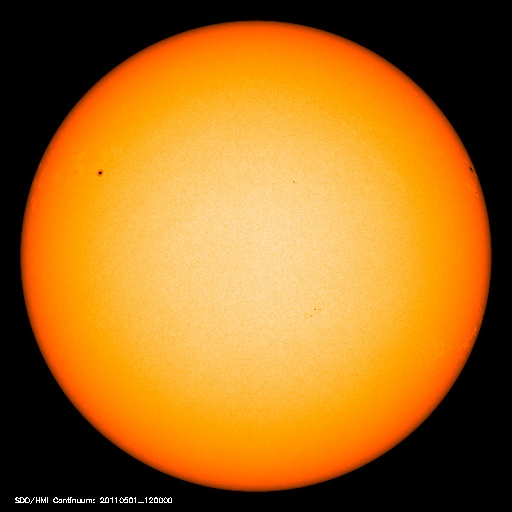sunspot: (83, 160, 114, 183), (457, 155, 481, 184)
